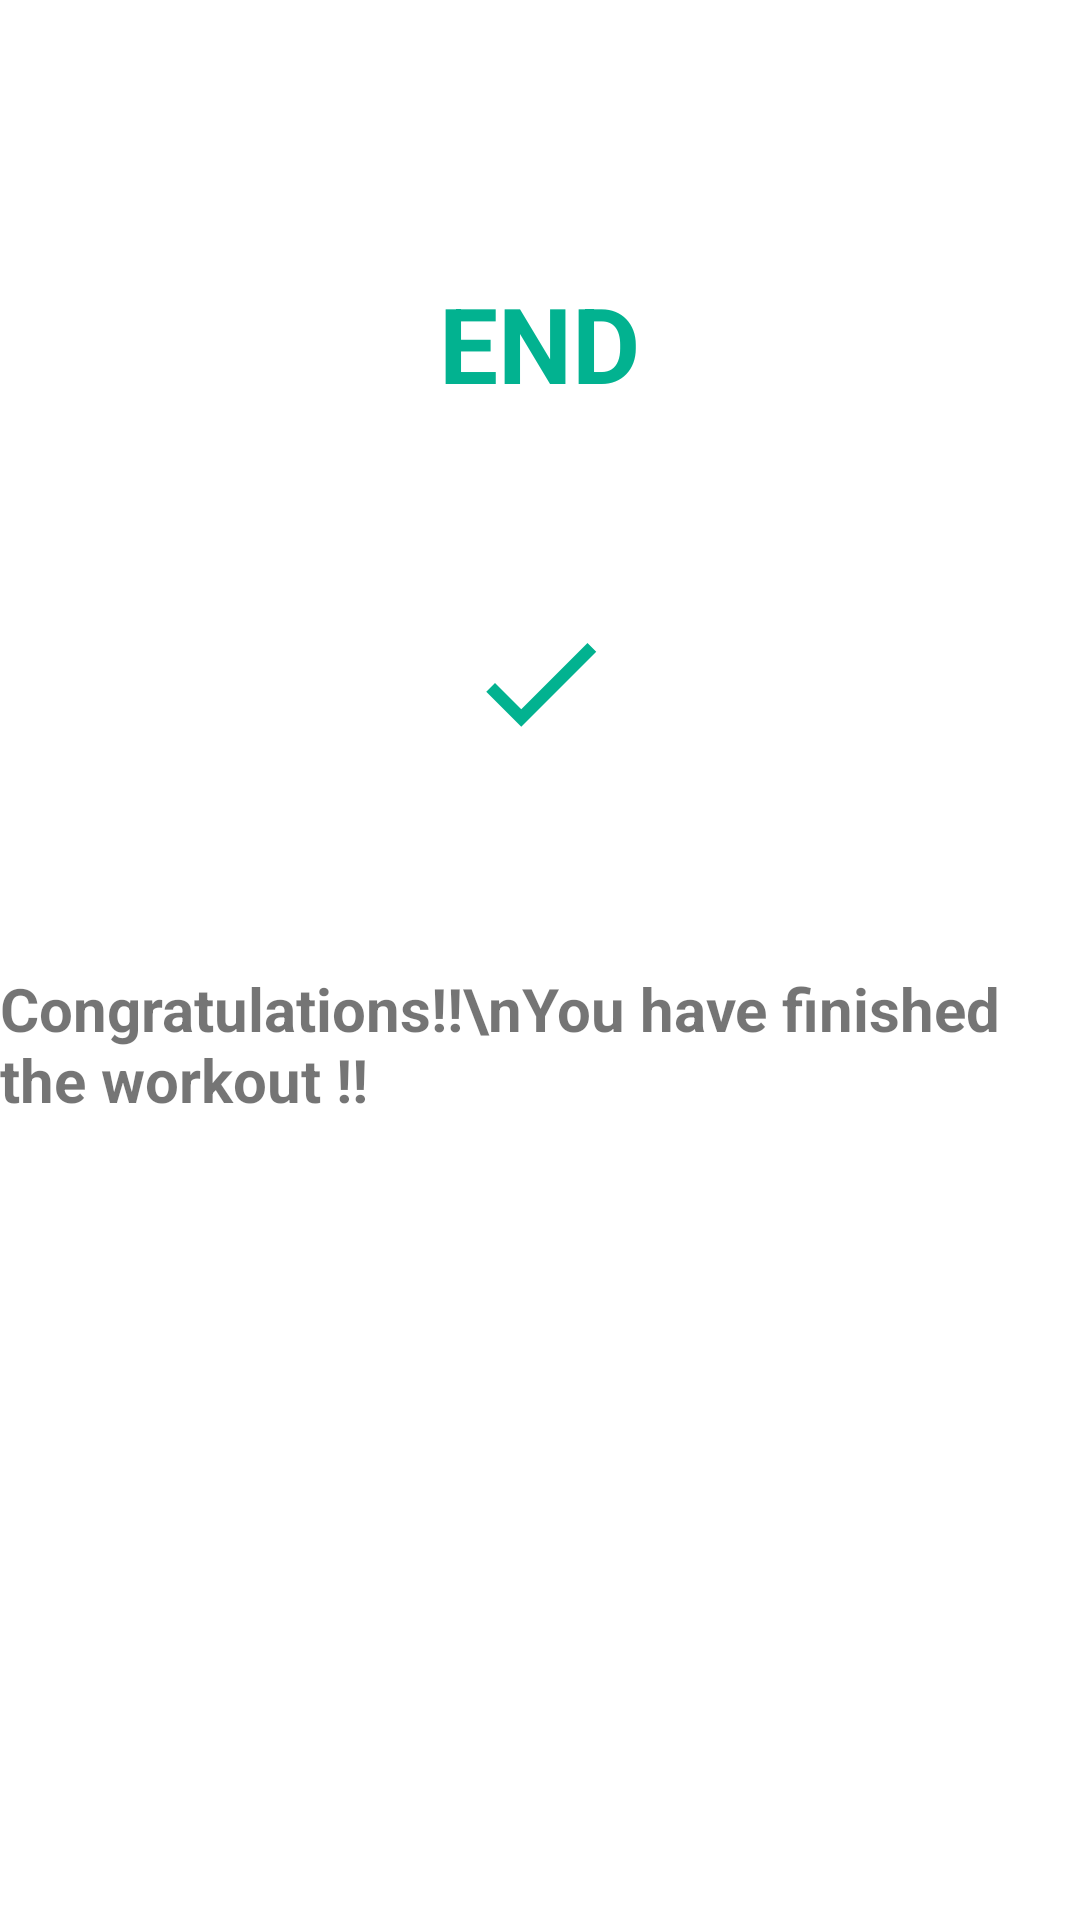

Named icons in this screenshot (1080x1920) and their centers, point (x, y):
done: point (541, 685)
